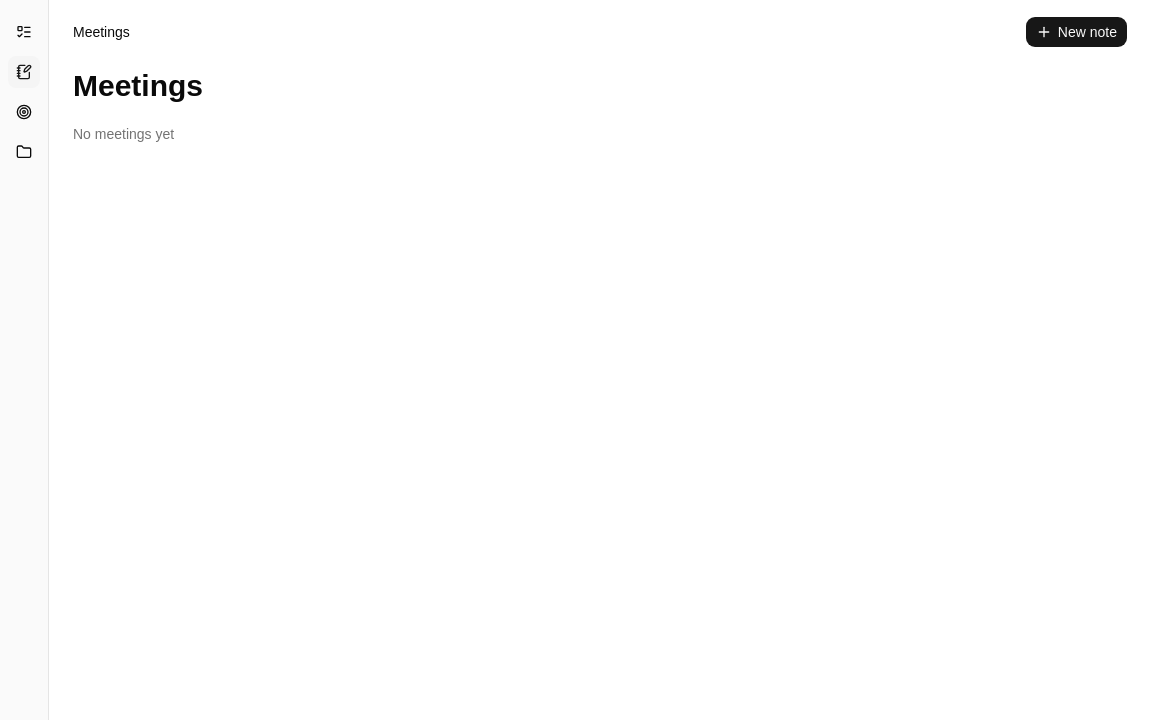
Scenario: The tasks of a project › shows the list Tasks below the lists Initiatives and Meetings
The image size is (1152, 720).
Click the 4th link named "Projects": point(24, 152) [8,136,40,168]
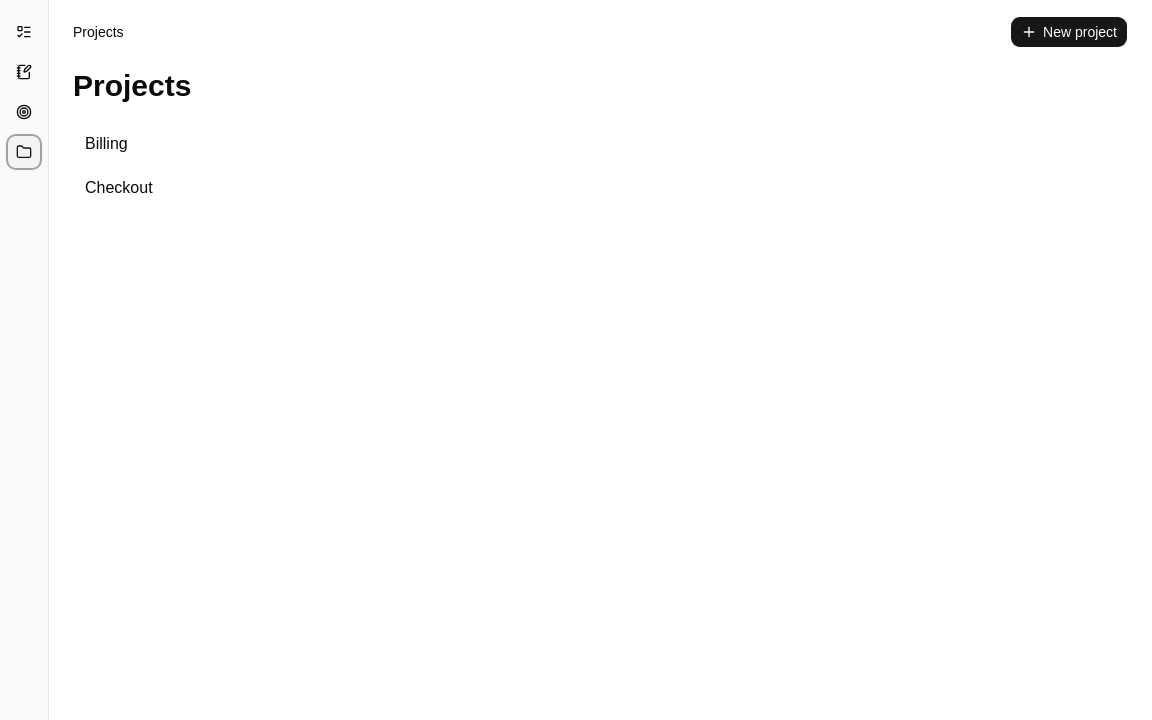
Click the link "Checkout": point(119, 188) [85,179,153,196]
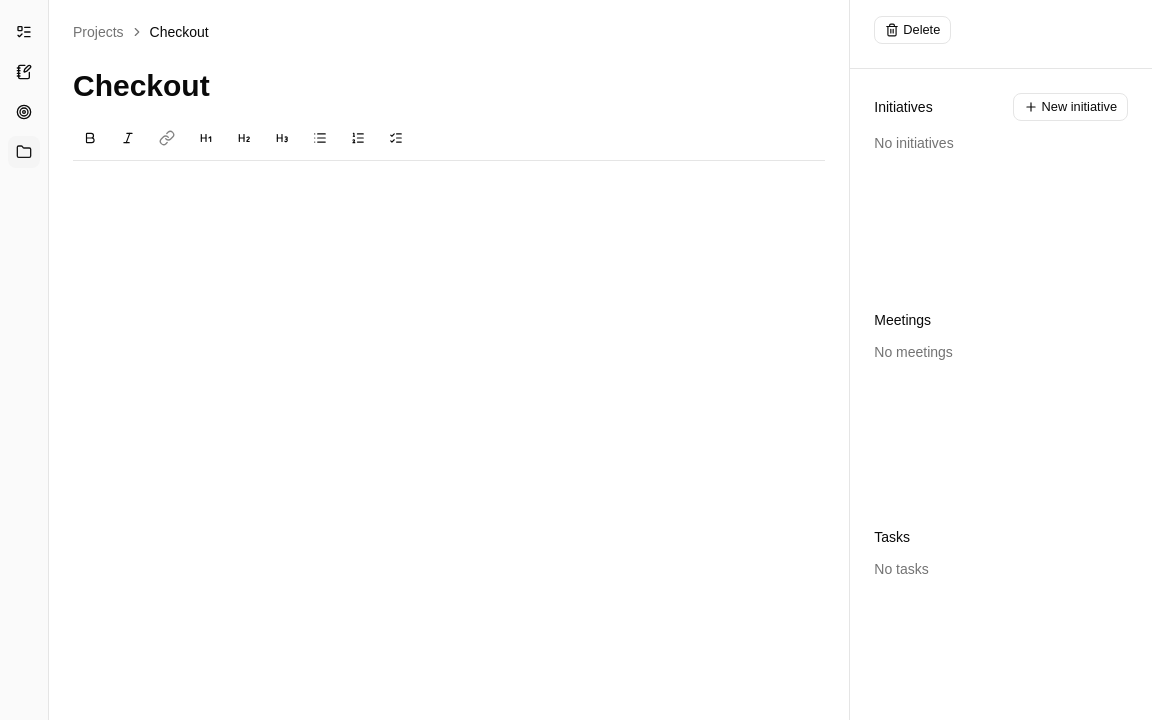
Now the field named "Project name" holds "Checkout", box [73,64,825,108]
Now the heading "Tasks" is shown, box [874,529,910,545]
